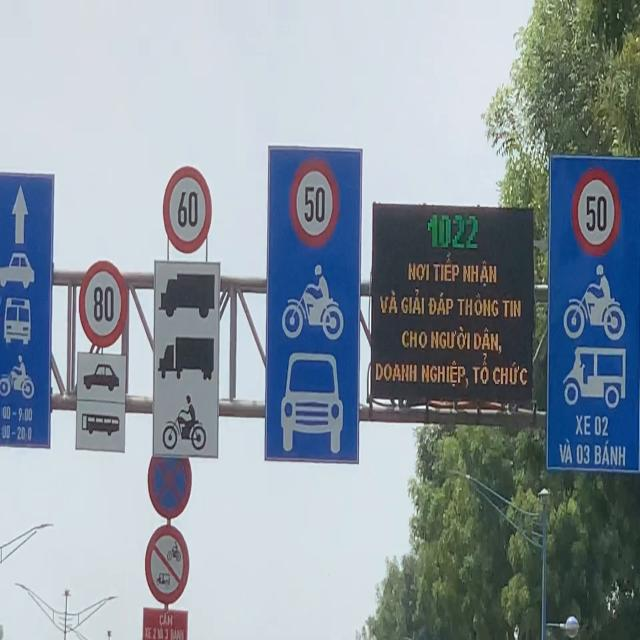Cam con lai: (145, 526, 190, 607)
Cam dung va do: (148, 454, 191, 520)
Toc do toi da: (162, 159, 217, 254), (571, 162, 621, 258), (79, 256, 127, 351), (289, 157, 339, 248)
